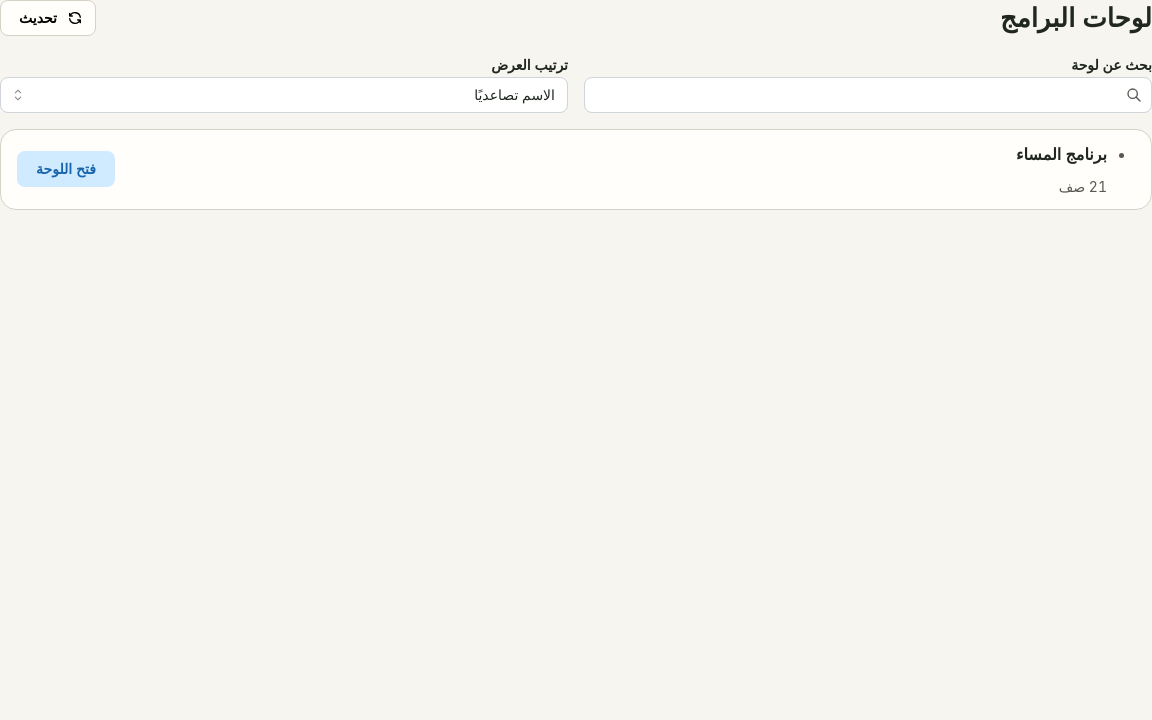
Scenario: opens correction for the on-air programme row even when a search hides that row
Click the button with aria-label "فتح لوحة برنامج المساء". click: (66, 169)
box: [17,151,115,187]
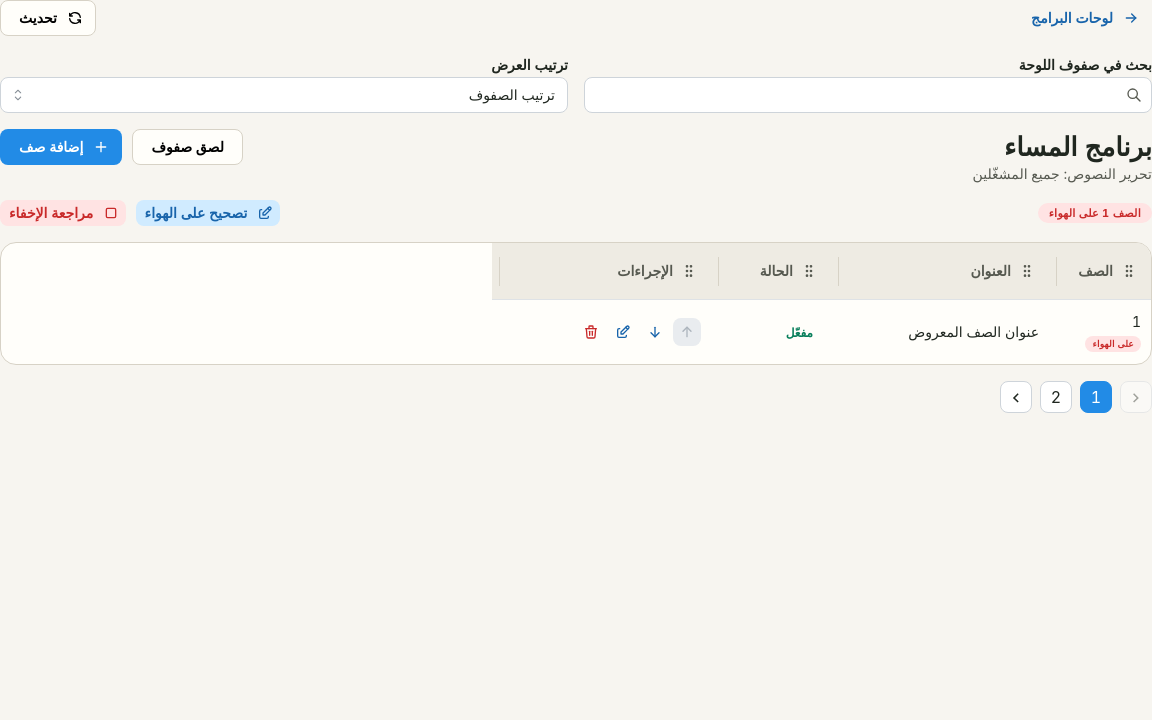
Now the text "عنوان الصف المعروض" is shown, box [908,323,1039,340]
Type "الآخر" into the search field labelled "بحث في صفوف اللوحة". click: (868, 95)
box: [584,77,1151,113]
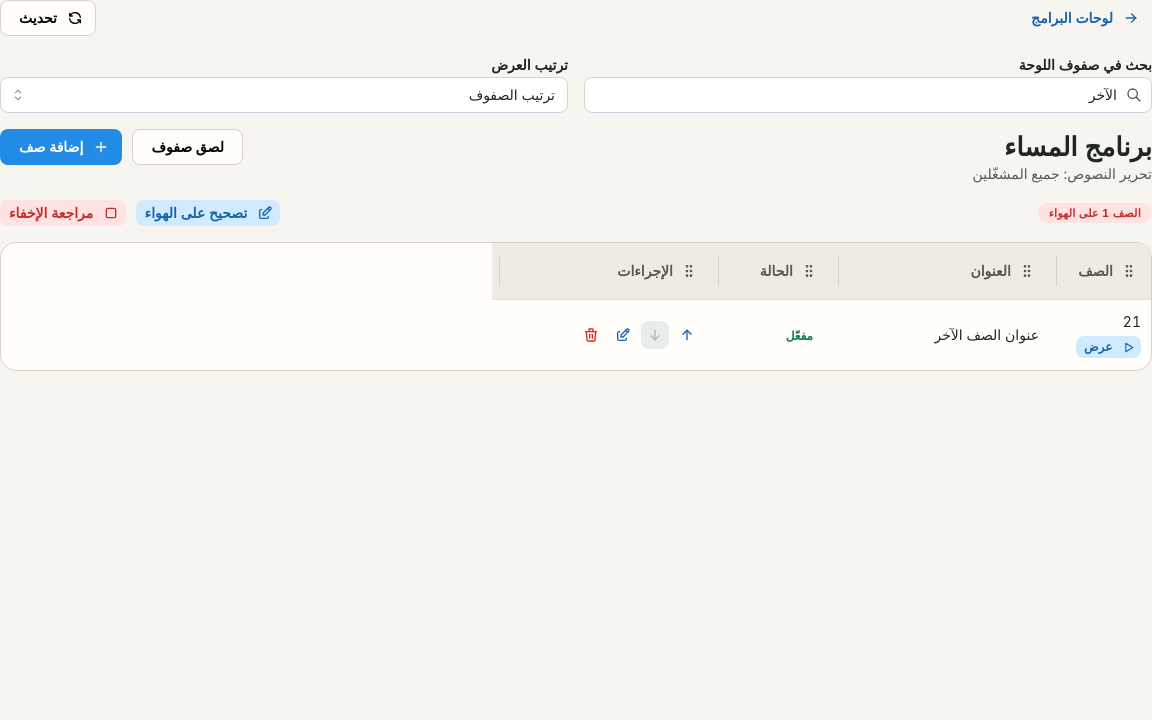
Now the text "عنوان الصف الآخر" is shown, box [934,326,1039,343]
Now the text "عنوان الصف المعروض" is gone
Click the button "تصحيح على الهواء". click: (208, 213)
box: [136,200,280,226]
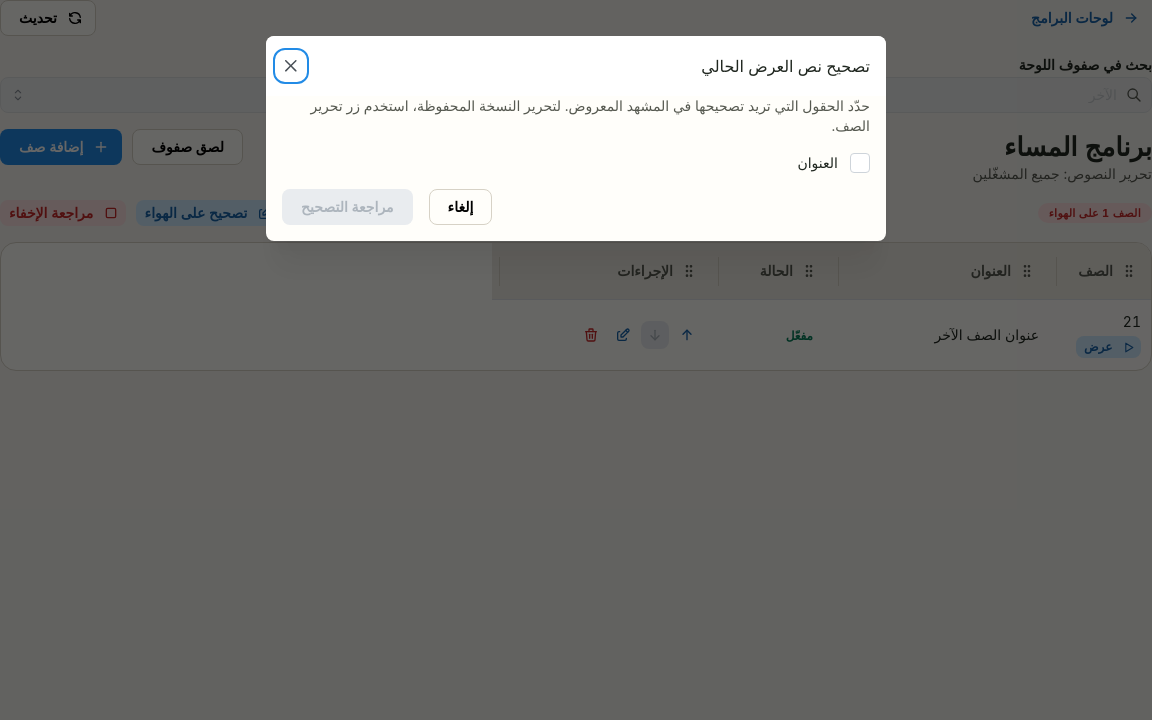
Click the checkbox labelled "العنوان". click: (860, 163)
box: [850,153,870,173]
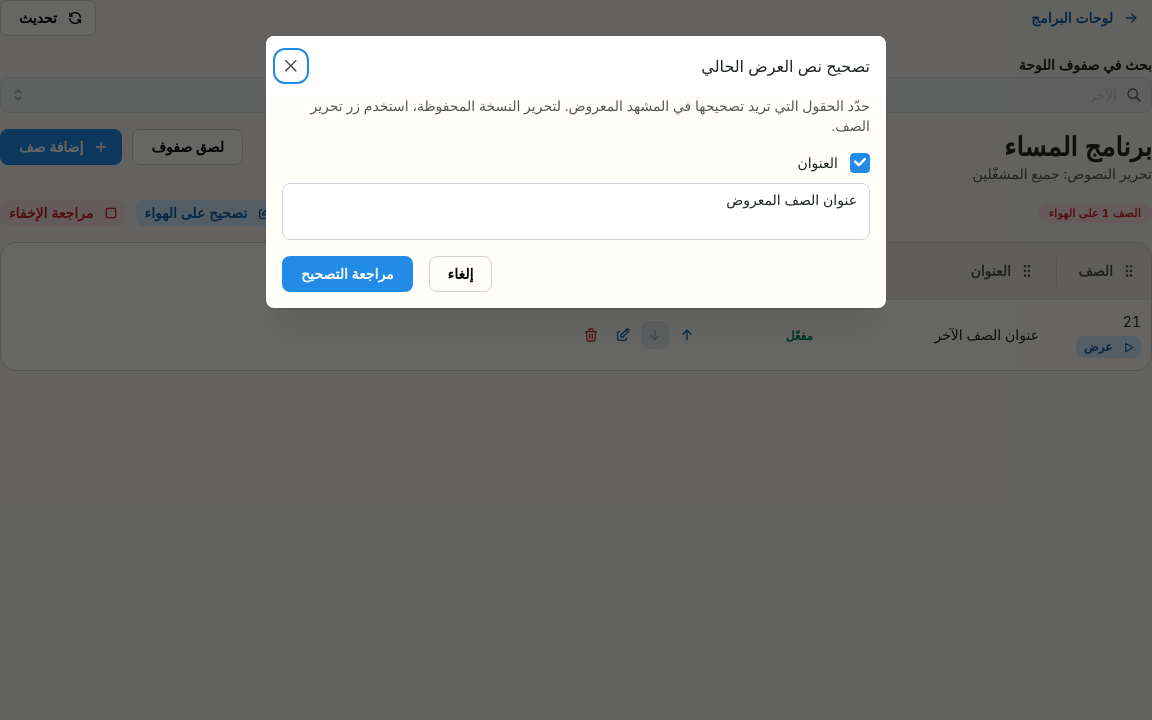
Now the text box named "القيمة الجديدة لـ العنوان" holds "عنوان الصف المعروض", box [282,183,870,240]
